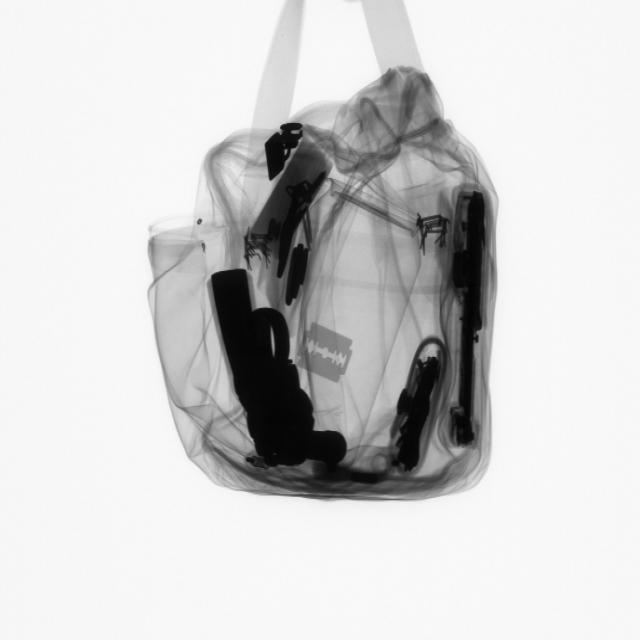BLADE: (296, 315, 359, 390)
GUN: (204, 268, 352, 477)
